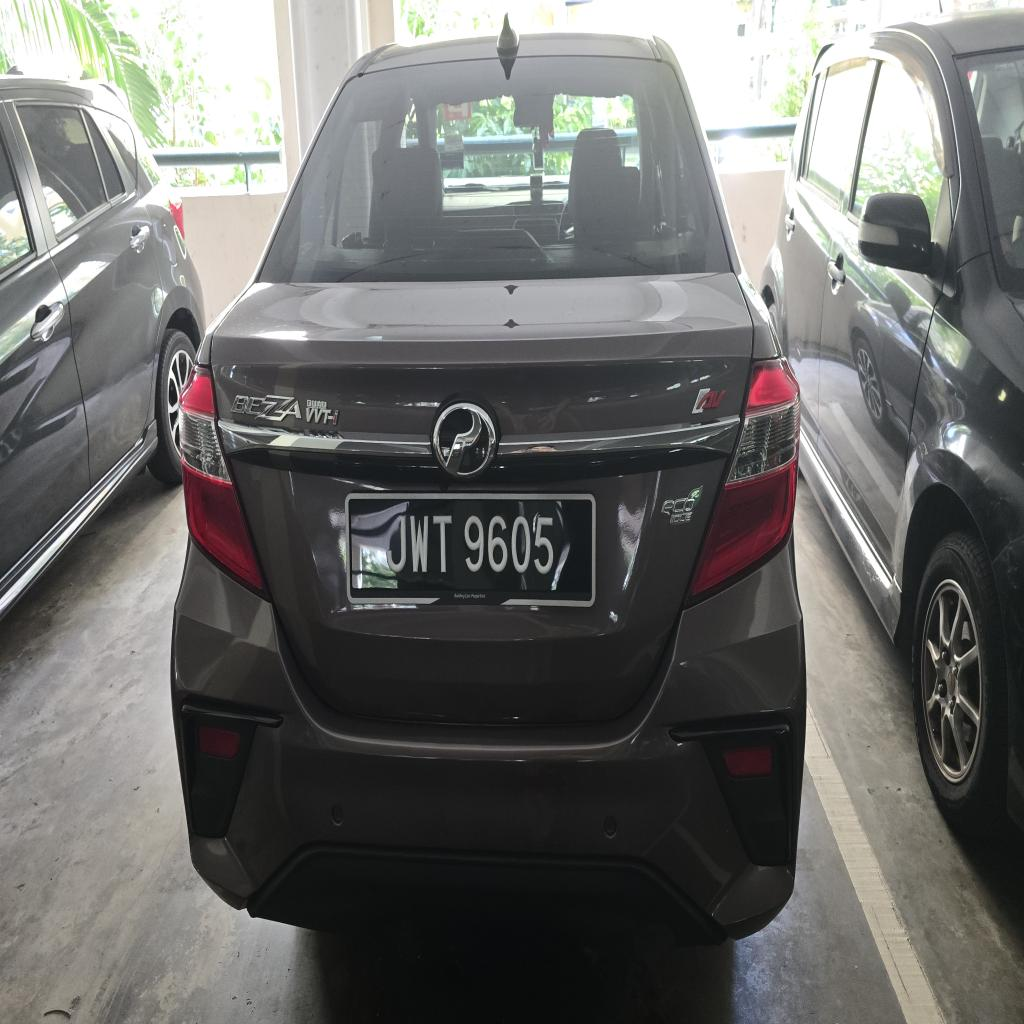car: (173, 32, 805, 942)
car plate: (347, 494, 595, 606)
